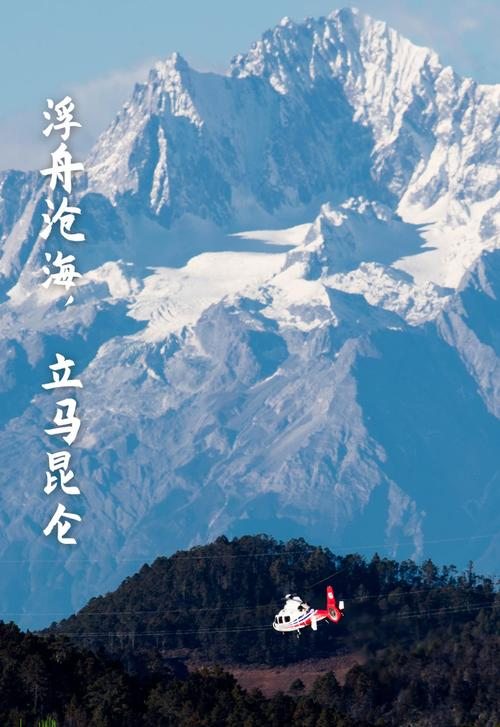mountain: (15, 234, 440, 590), (84, 42, 489, 260), (13, 534, 327, 710)
